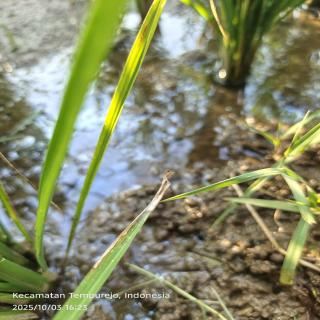Hawar-Daun: (92, 179, 171, 270)
